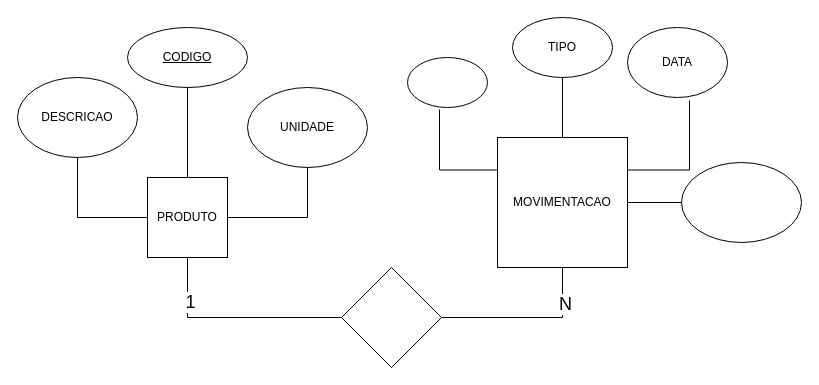
Some shapes in this 819 by 385 pixel diagram are drawn without their labels. Each missing label, with the centre of its shape:
"ID" belongs at point (447, 82).
"POSSUI" belongs at point (391, 317).
"QUANTIDADE" belongs at point (741, 202).
